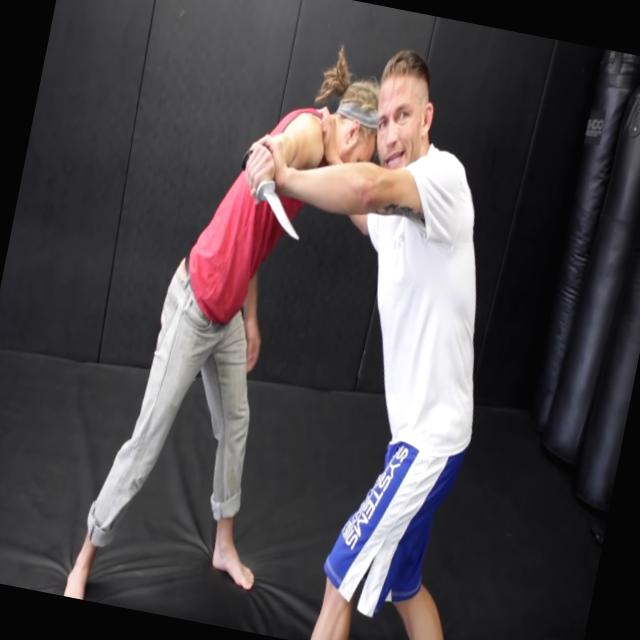knife: (224, 139, 320, 252)
